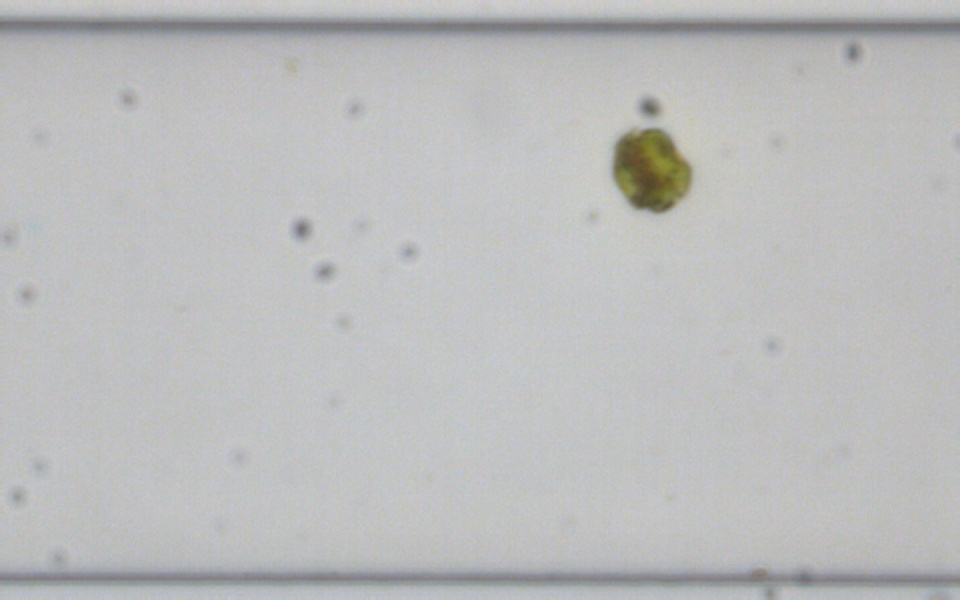Haematococcus: (605, 123, 694, 216)
